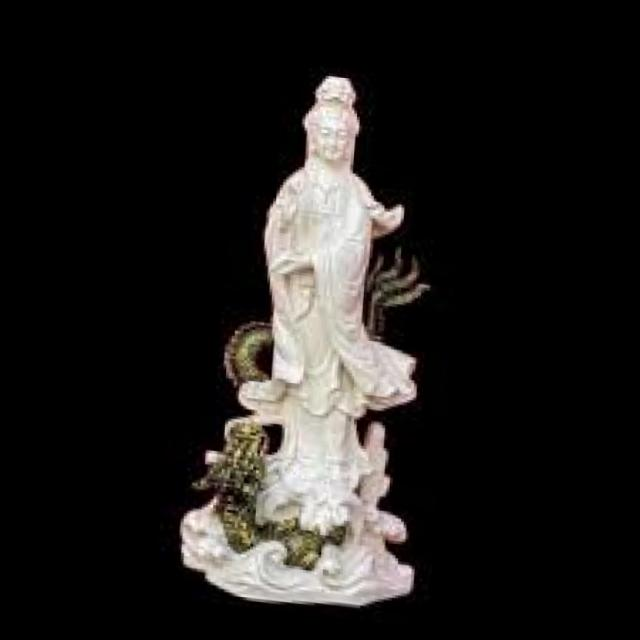Guan Yin: (246, 54, 411, 435)
